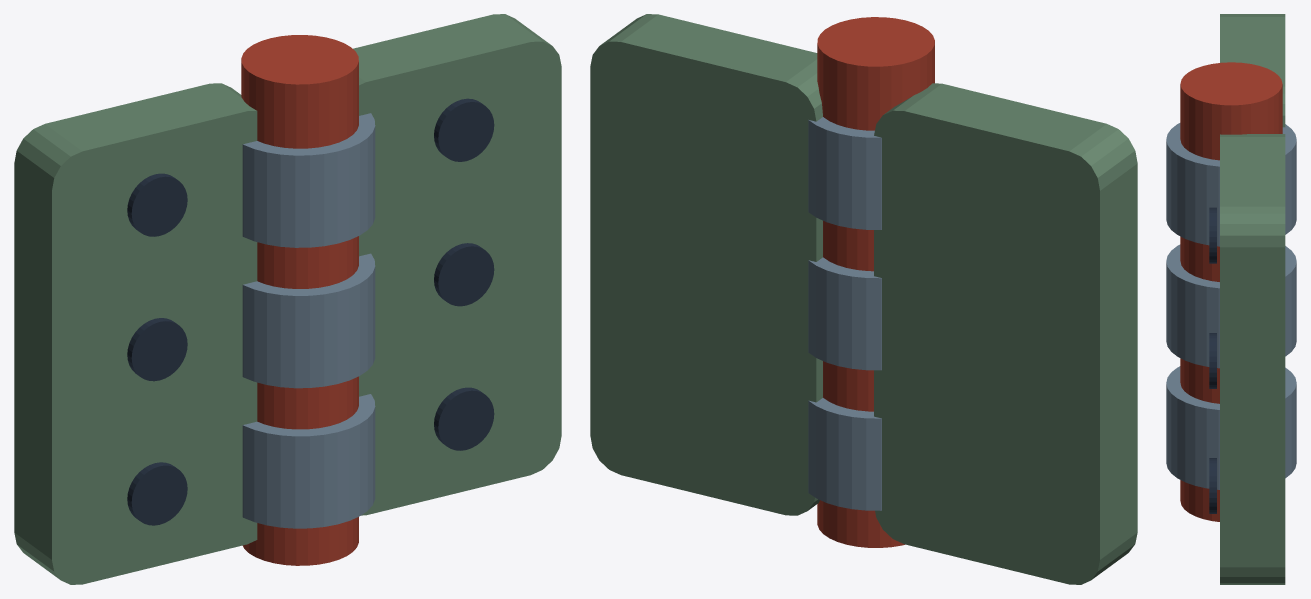
File: hingeplate.glb
3 renders of one model, left to right at view 1: azimuth 30°, elevation 25°; view 2: azimuth 150°, elevation 25°; view 3: azimuth 270°, elevation 25°, orthographic. The views are drawn at different scales.
Visible parts, largest first — view 1: leaf-1, leaf1, pin, fixing hole (×6), knuckle0.24, knuckle0.94, knuckle0.59; view 2: leaf-1, leaf1, pin, knuckle0.24, knuckle0.59, knuckle0.94; view 3: leaf1, pin, knuckle0.24, knuckle0.59, knuckle0.94, leaf-1, fixing hole (×3).
Boxes of the visible parts, <box> form: leaf-1: <box>14,83,257,584</box>; leaf1: <box>353,14,561,515</box>; pin: <box>241,35,358,565</box>; fixing hole (×6): <box>127,98,494,525</box>; knuckle0.24: <box>242,394,375,528</box>; knuckle0.94: <box>242,113,375,247</box>; knuckle0.59: <box>242,253,375,388</box>; leaf-1: <box>874,83,1137,584</box>; leaf1: <box>590,14,822,515</box>; pin: <box>817,17,934,547</box>; knuckle0.24: <box>808,398,881,510</box>; knuckle0.59: <box>808,257,881,370</box>; knuckle0.94: <box>808,117,881,229</box>; leaf1: <box>1220,134,1285,584</box>; pin: <box>1180,62,1282,521</box>; knuckle0.24: <box>1166,366,1296,489</box>; knuckle0.59: <box>1166,244,1296,368</box>; knuckle0.94: <box>1166,123,1296,246</box>; leaf-1: <box>1220,14,1285,127</box>; fixing hole (×3): <box>1209,207,1216,513</box>.
Bounding box in the file's own units: 1.33 × 1.2 × 0.34.
